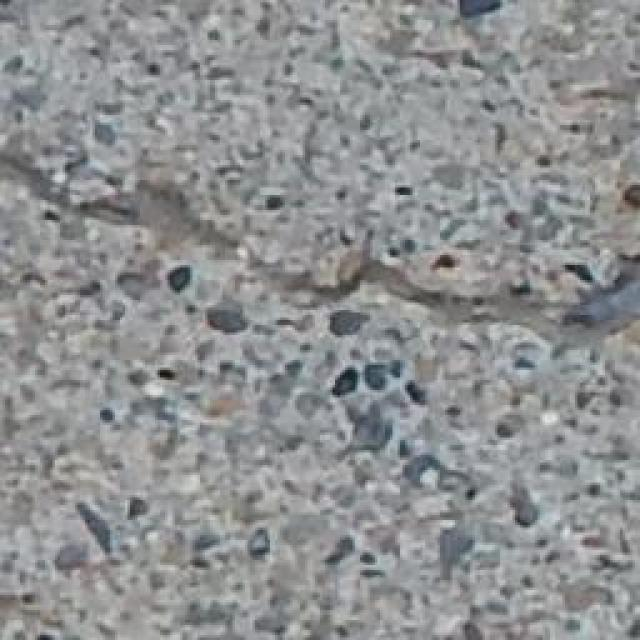concrete-crack: (0, 126, 640, 363)
